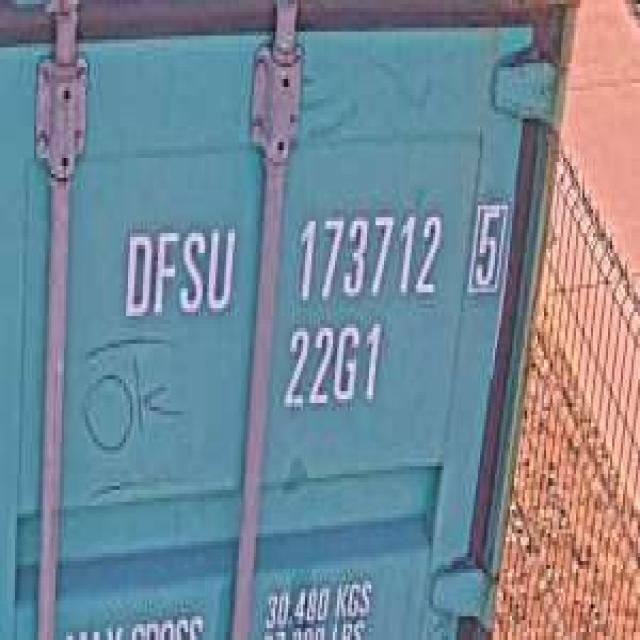dv: (463, 190, 510, 304)
owner: (117, 213, 237, 328)
serial: (290, 198, 446, 308)
size: (280, 316, 386, 419)
